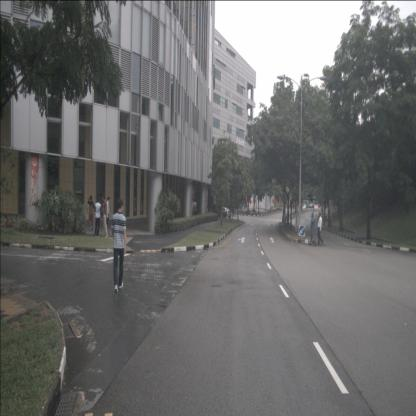human-pedestrian-adult: (110, 197, 127, 294), (101, 195, 109, 237), (94, 196, 102, 238), (88, 195, 96, 233), (316, 212, 324, 246), (309, 212, 316, 246), (105, 196, 111, 235)
vehicle-car: (216, 208, 232, 218)
